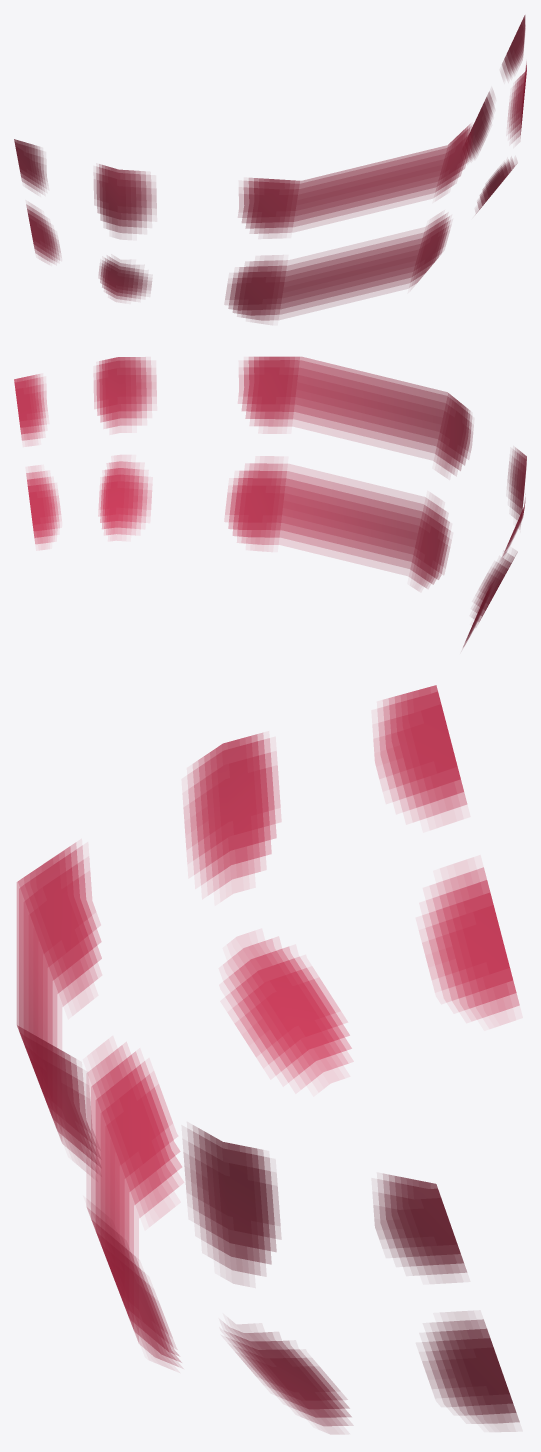
3 views of the same model, one above another, from view 1: azimuth 30°, elevation 25°; view 2: azimuth 150°, elevation 25°; view 3: azimuth 270°, elevation 25° (orthographic). The views are drawn at different scales.
Visible parts, largest first — view 1: ef_791; view 2: ef_791; view 3: ef_791.
Boxes of the visible parts, bbox=[...] form: ef_791: bbox=[14, 15, 526, 323]; ef_791: bbox=[14, 356, 526, 647]; ef_791: bbox=[17, 685, 519, 1433].
Bounding box in the file's own units: 0.5767 × 0.1965 × 0.248.
Materials: 1 (1 with a texture image).
